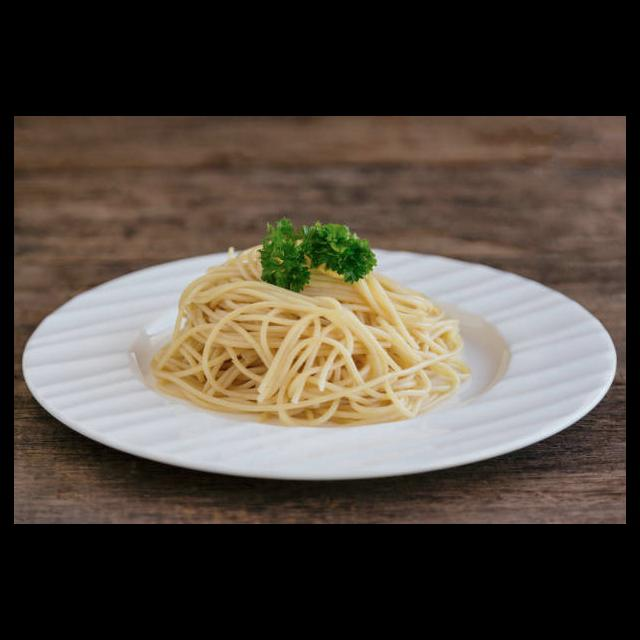noodles: (146, 237, 471, 431)
